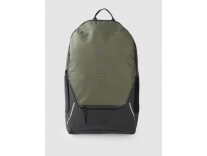backpack: (64, 7, 139, 134)
